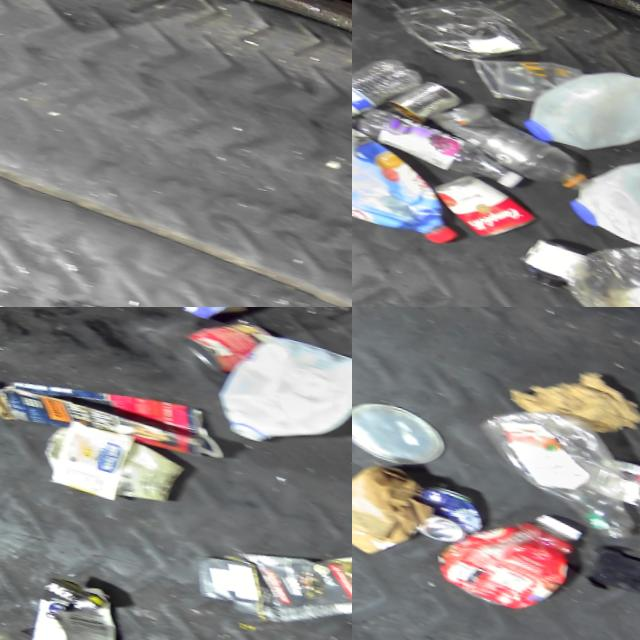can: (421, 160, 530, 239), (172, 307, 278, 381), (398, 478, 493, 551), (585, 451, 640, 521)
milk_jug: (202, 319, 352, 470), (501, 39, 640, 171), (558, 130, 640, 260)
non_white_jug: (409, 482, 590, 620)
plastic_bottle: (458, 392, 640, 540), (429, 87, 599, 183), (356, 103, 525, 186), (352, 37, 414, 137)
